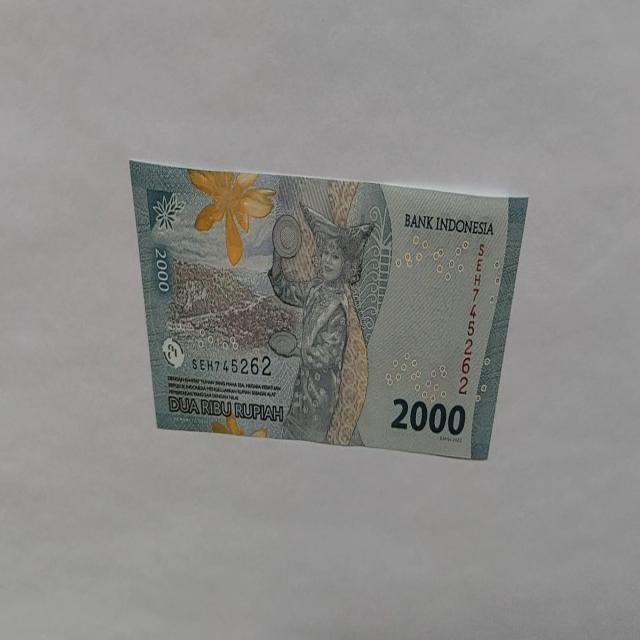dua ribu rupiah: (128, 160, 528, 460), (266, 199, 374, 445), (186, 168, 276, 267)
